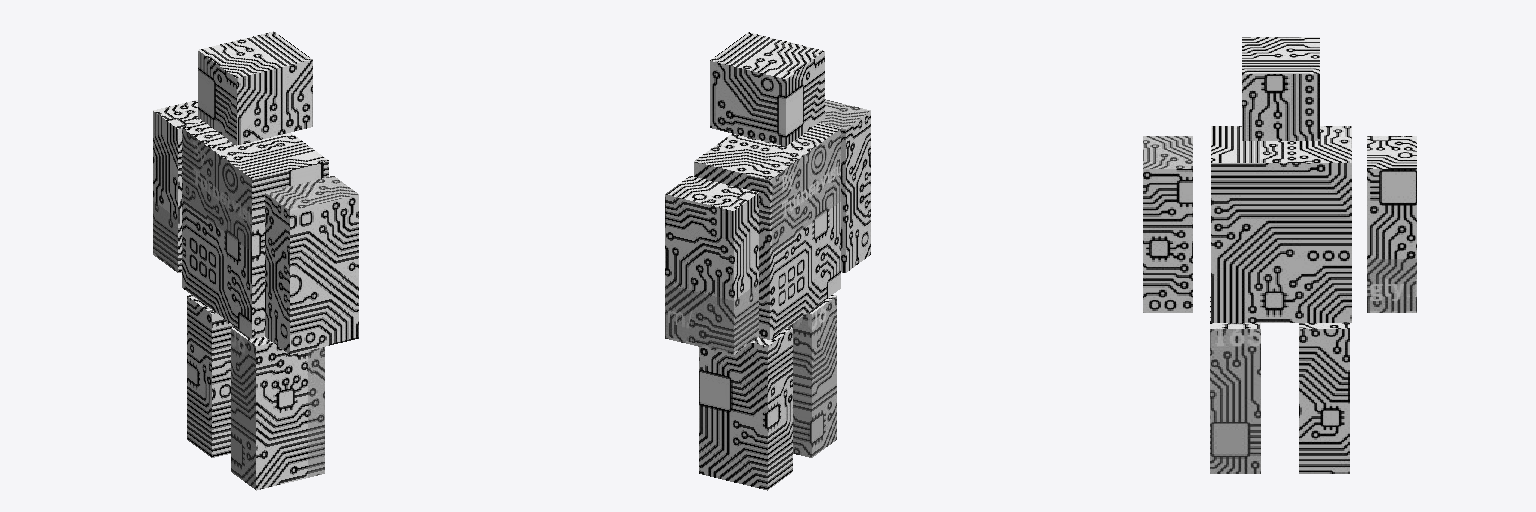
3 views of the same model, side by side, from view 1: azimuth 30°, elevation 25°; view 2: azimuth 150°, elevation 25°; view 3: azimuth 270°, elevation 25° (orthographic).
Visible parts, largest first — view 1: Cube_Cube.001; view 2: Cube_Cube.001; view 3: Cube_Cube.001.
Part boxes in pixels (bbox=[...]): Cube_Cube.001: bbox=[153, 31, 358, 490]; Cube_Cube.001: bbox=[665, 32, 870, 490]; Cube_Cube.001: bbox=[1143, 37, 1416, 473].
Bounding box in the file's own units: 1 × 5.01 × 3.11.
1 materials, 1 textured.